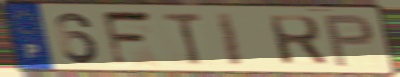6: (54, 11, 101, 66)
F: (100, 9, 156, 69)
I: (213, 10, 247, 68)
P: (321, 13, 377, 69)
R: (265, 13, 331, 67)
T: (161, 11, 208, 68)
